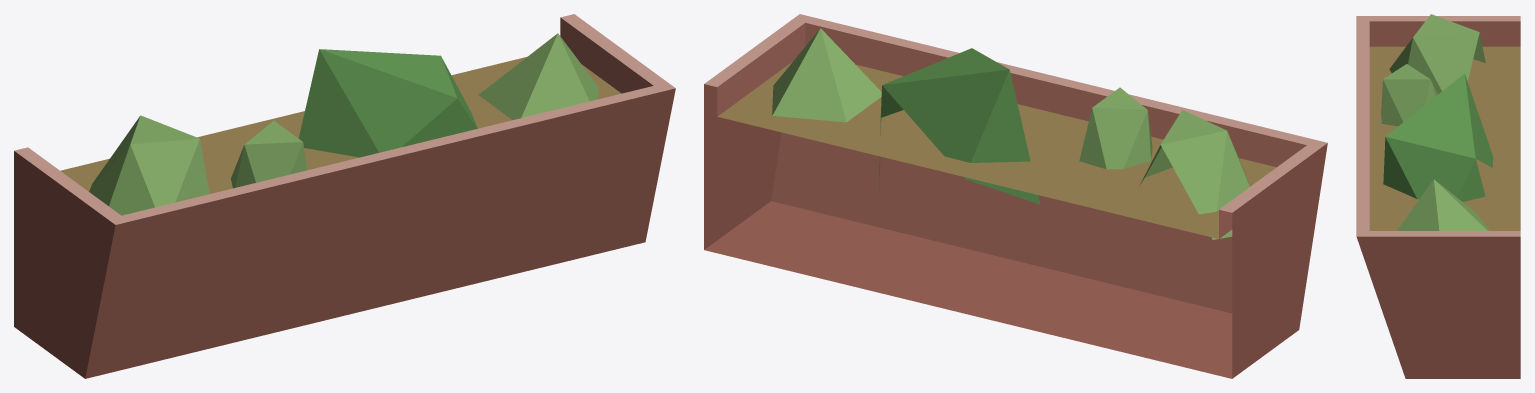
File: vegetation_010.fbx
The picture shows the model from 3 angles, left to right: view 1: azimuth 30°, elevation 25°; view 2: azimuth 150°, elevation 25°; view 3: azimuth 270°, elevation 25°; orthographic projection. The views are drawn at different scales.
Visible parts, largest first — view 1: vegetation_010; view 2: vegetation_010; view 3: vegetation_010.
Part boxes in pixels (x1,y1,x2,y2): vegetation_010: (14,14,675,378); vegetation_010: (704,14,1327,378); vegetation_010: (1356,14,1520,378).
Size of the model in its own units: 113 by 45.78 by 35.54.
